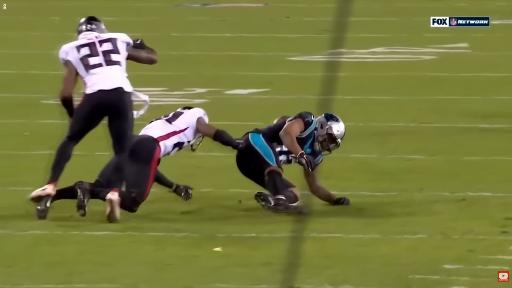Helmet: (315, 114, 345, 154), (77, 16, 107, 35)
Jersey: (59, 32, 133, 93), (254, 112, 322, 164), (140, 108, 208, 158)
Player: (30, 17, 157, 203), (37, 107, 239, 222), (237, 112, 349, 211)
